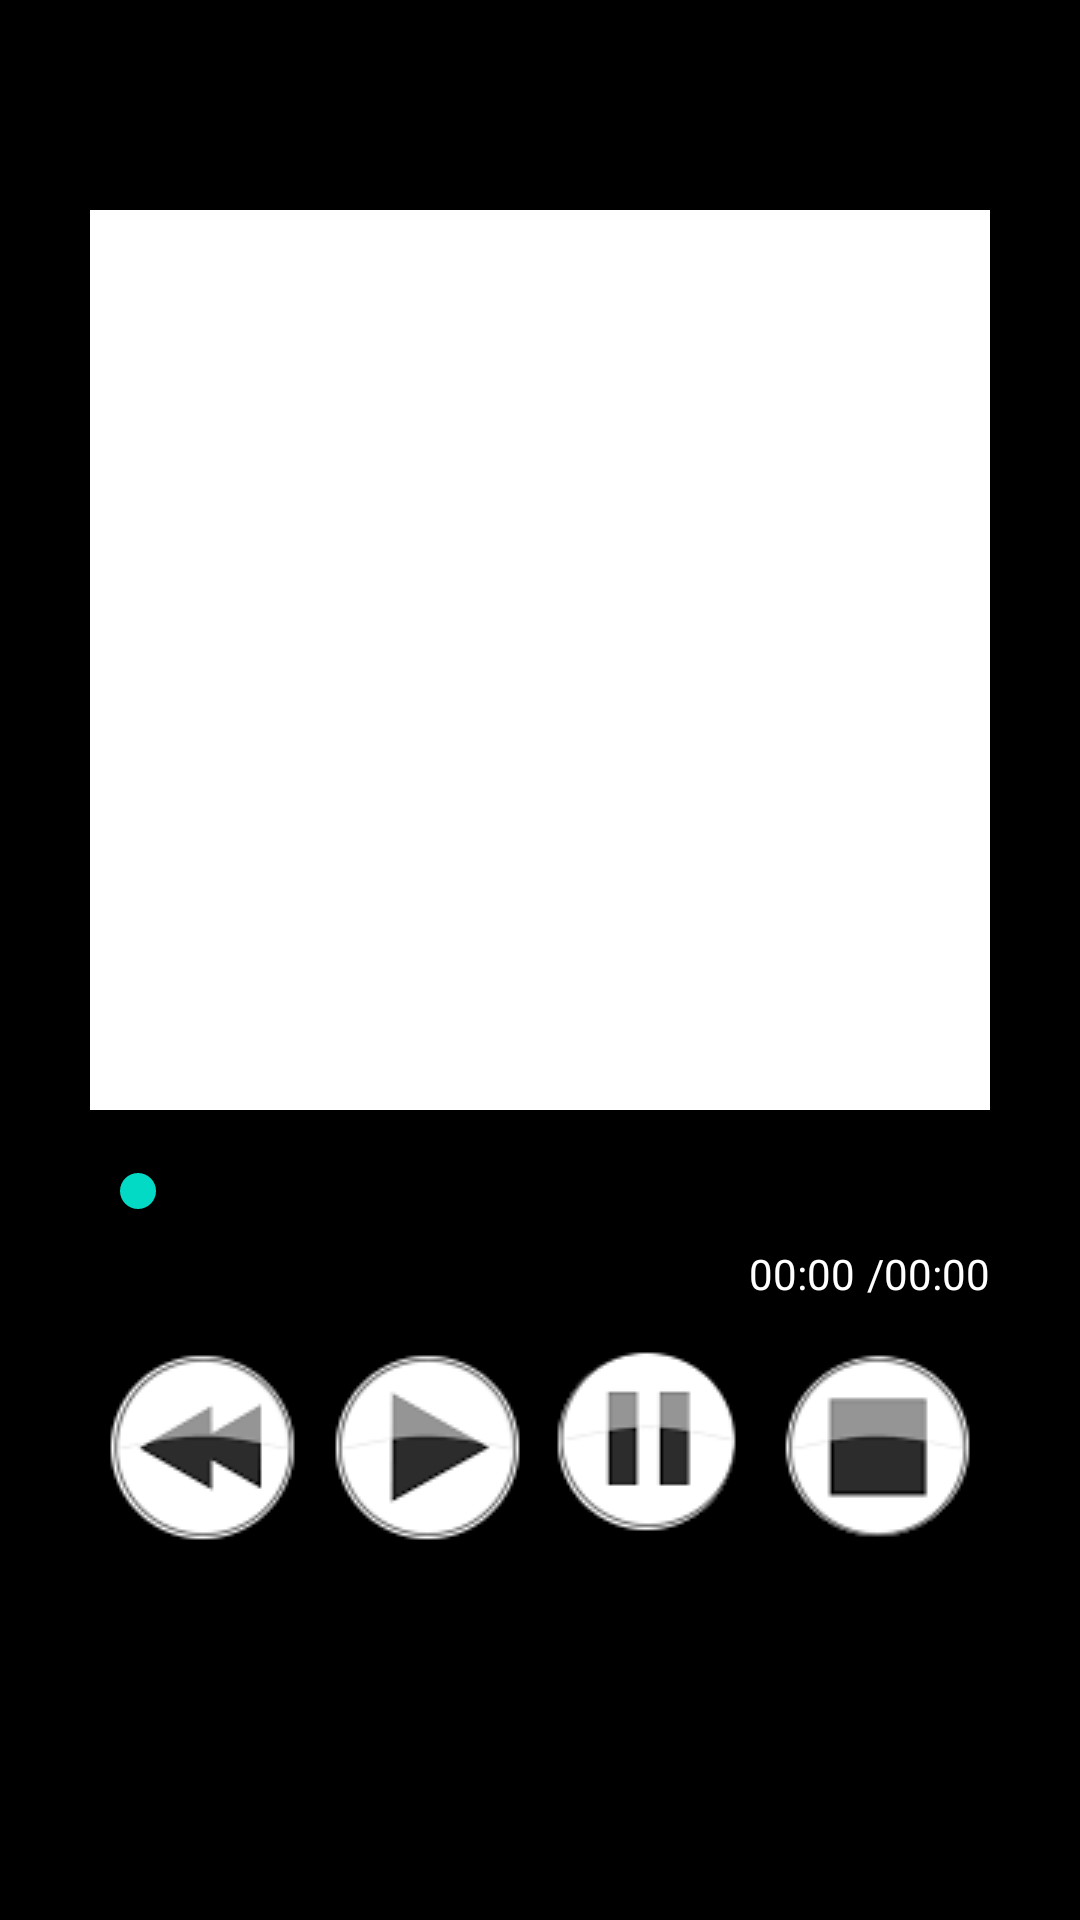

Icon bounding boxes for this 1080x1920 phone screenshot, format (x1, y1, x2, y2):
audio pause: (557, 1352, 736, 1531)
audio play: (335, 1355, 520, 1540)
audio prev: (110, 1355, 295, 1540)
audio stop: (785, 1355, 970, 1537)
